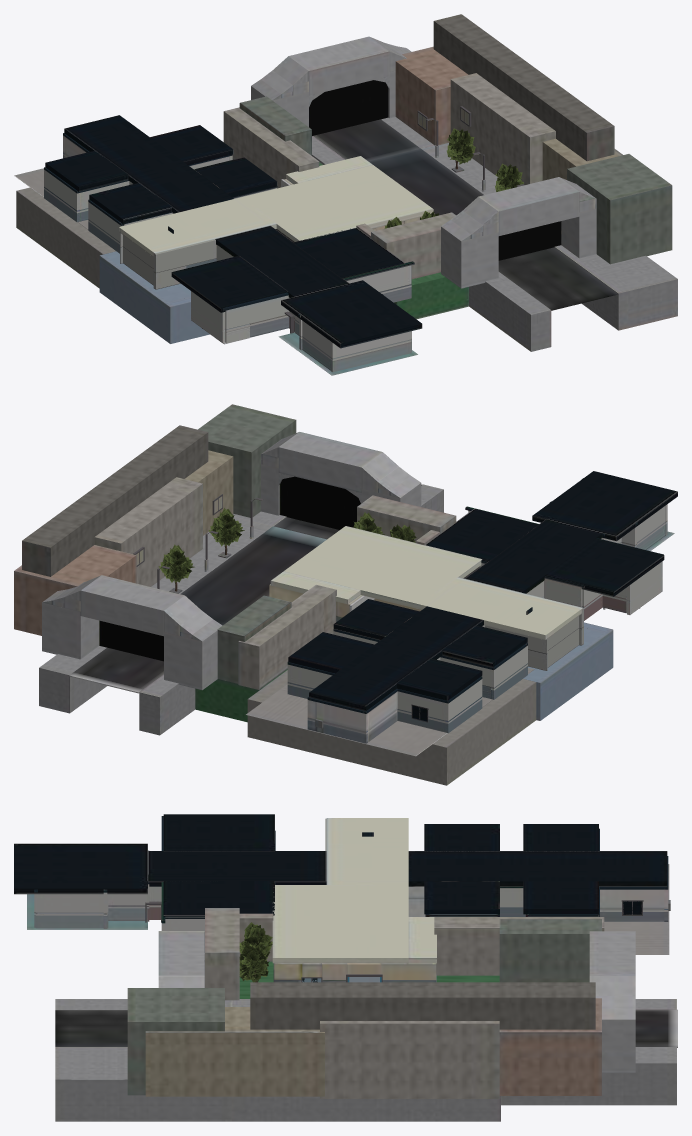
The model's file is hospital.glb.
3 views of the same model, one above another, from view 1: azimuth 30°, elevation 25°; view 2: azimuth 150°, elevation 25°; view 3: azimuth 270°, elevation 25° (orthographic). The views are drawn at different scales.
Visible parts, largest first — view 1: UV_Bake.001_1, hospital 2.001_3; view 2: UV_Bake.001_1, hospital 2.001_3, Hospital.001_2; view 3: UV_Bake.001_1, hospital 2.001_3, Hospital.001_2.
Part boxes in pixels (<box>): UV_Bake.001_1: <box>14,14,677,375</box>; hospital 2.001_3: <box>309,80,561,260</box>; UV_Bake.001_1: <box>14,404,677,785</box>; hospital 2.001_3: <box>99,476,416,661</box>; Hospital.001_2: <box>133,494,639,722</box>; UV_Bake.001_1: <box>14,814,677,1121</box>; hospital 2.001_3: <box>239,922,317,982</box>; Hospital.001_2: <box>145,900,643,982</box>.
Size of the model in its own units: 82.44 by 21.76 by 95.78.
Materials: 5 (3 with a texture image).
